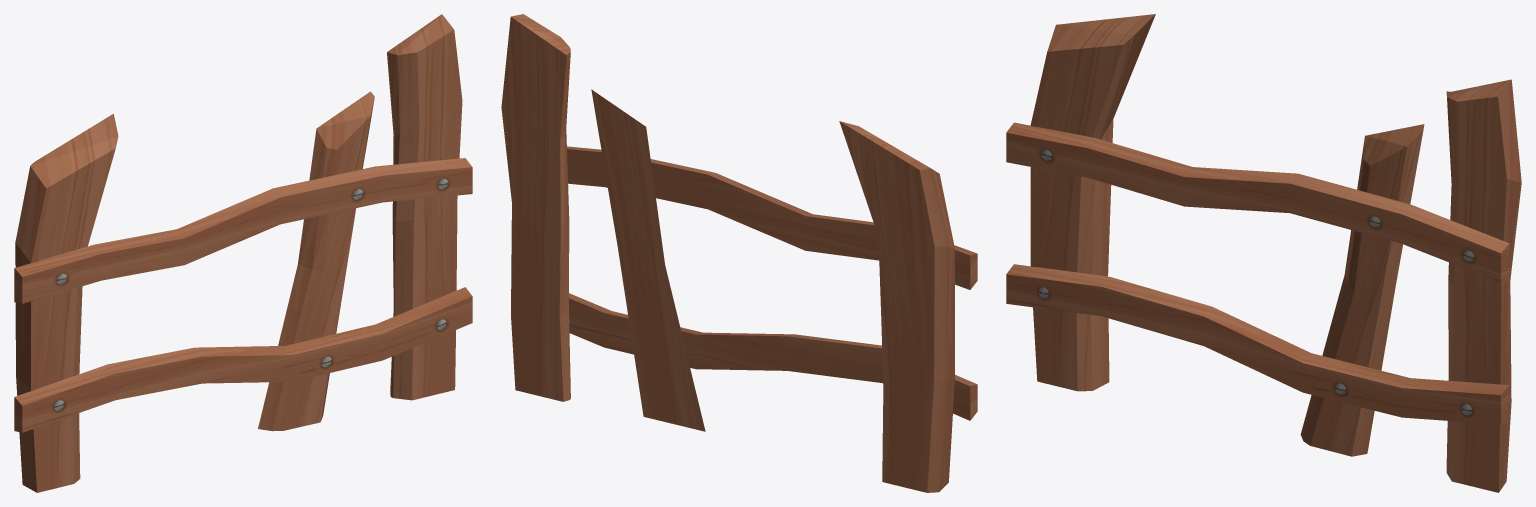
Rendered from Fence_01.fbx.
3 views of the same model, side by side, from view 1: azimuth 30°, elevation 25°; view 2: azimuth 150°, elevation 25°; view 3: azimuth 330°, elevation 25° (orthographic). The views are drawn at different scales.
Parts seen in each view (by area): view 1: Fence_01; view 2: Fence_01; view 3: Fence_01.
Part boxes in pixels (x1,y1,x2,y2): Fence_01: [14, 14, 472, 492]; Fence_01: [501, 14, 977, 492]; Fence_01: [1006, 14, 1521, 492].
Bounding box in the file's own units: 69.16 × 53.8 × 6.83.
1 material, 1 textured.
